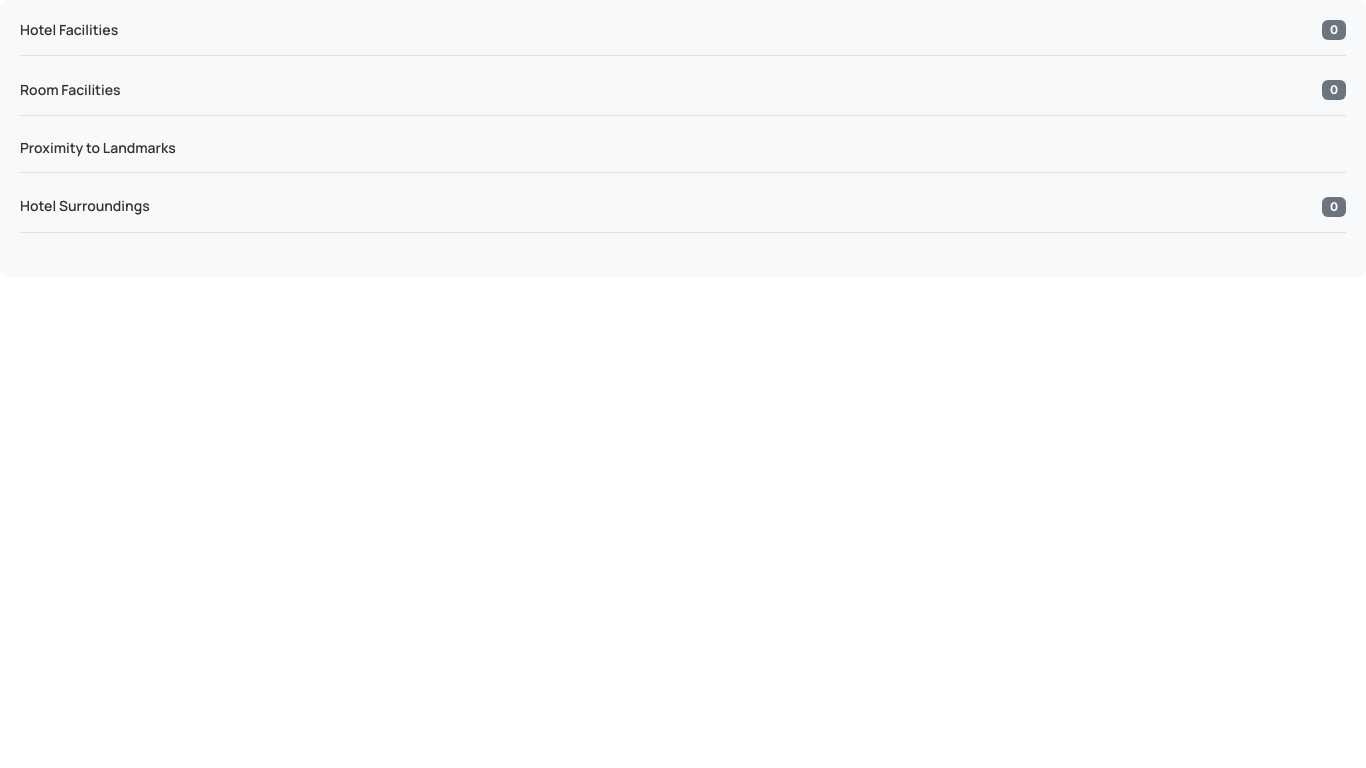
it: AdvancedFilters › Room Facilities Section › should expand room facilities when clicked
Click the heading "Room Facilities".
click(70, 90)  # box [20, 82, 121, 98]
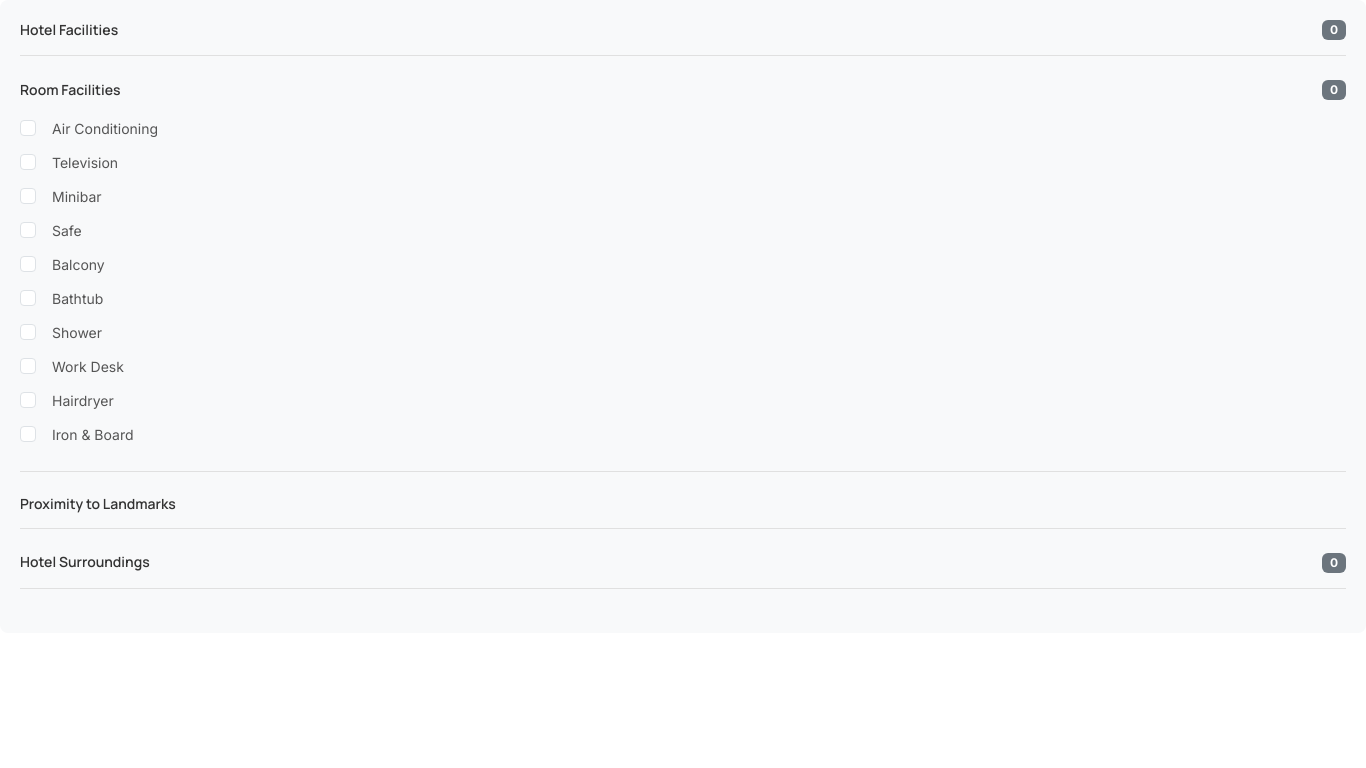
Result: the checkbox labelled "Air Conditioning" is shown at [20, 120, 36, 136]
Result: the checkbox labelled "Television" is shown at [20, 154, 36, 170]
Result: the checkbox labelled "Minibar" is shown at [20, 188, 36, 204]
